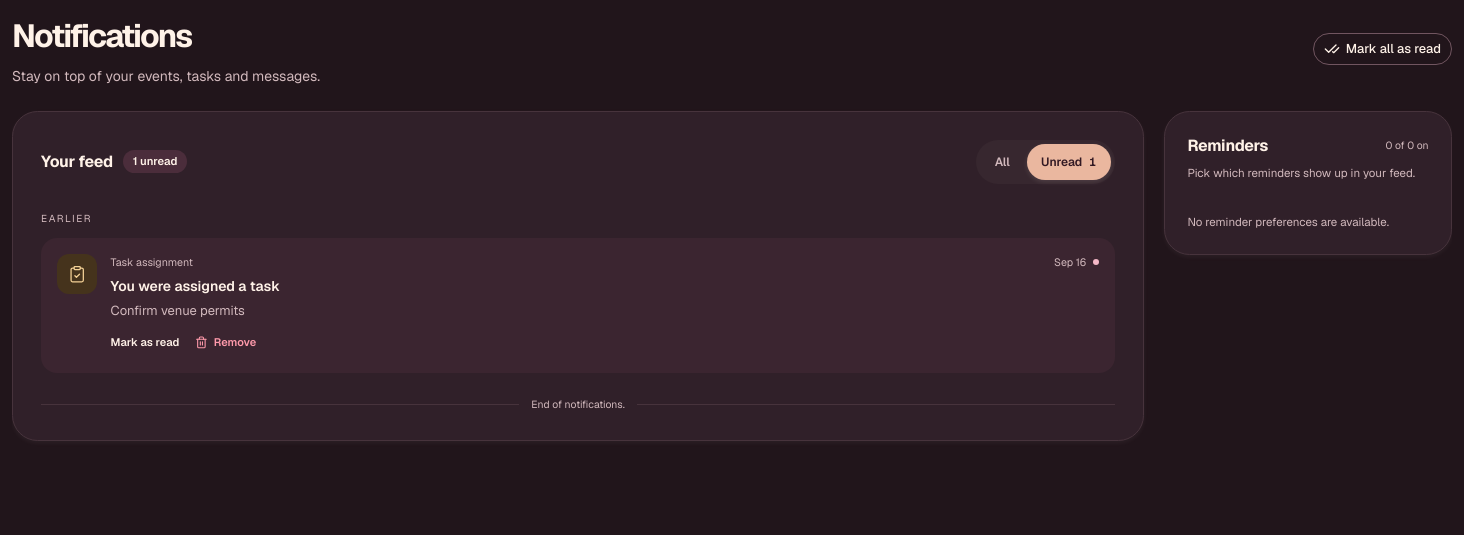
Test case: NotificationsManager › shows feedback when an individual read action is rejected
The image size is (1464, 535).
Click the button "Mark as read" at {"x": 145, "y": 342}, box left=111, top=328, right=179, bottom=356
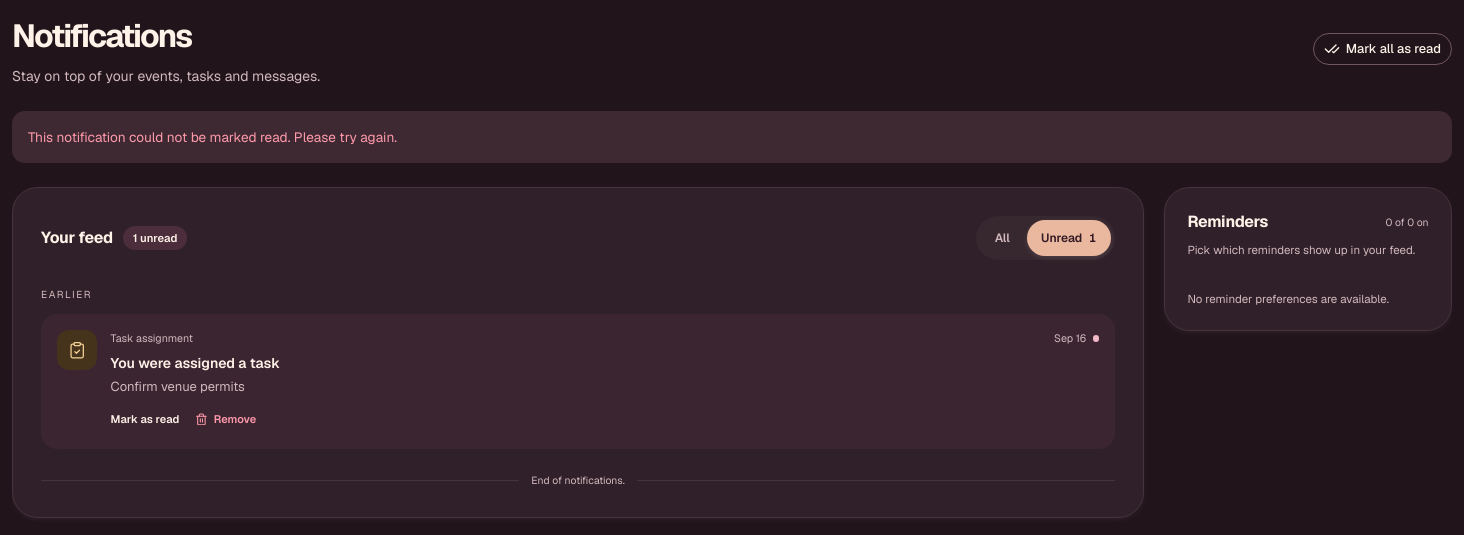
expect the text "You were assigned a task" is shown: met, box left=111, top=354, right=280, bottom=372
expect the message shows "This notification could not be marked read": met, box left=28, top=128, right=397, bottom=146
